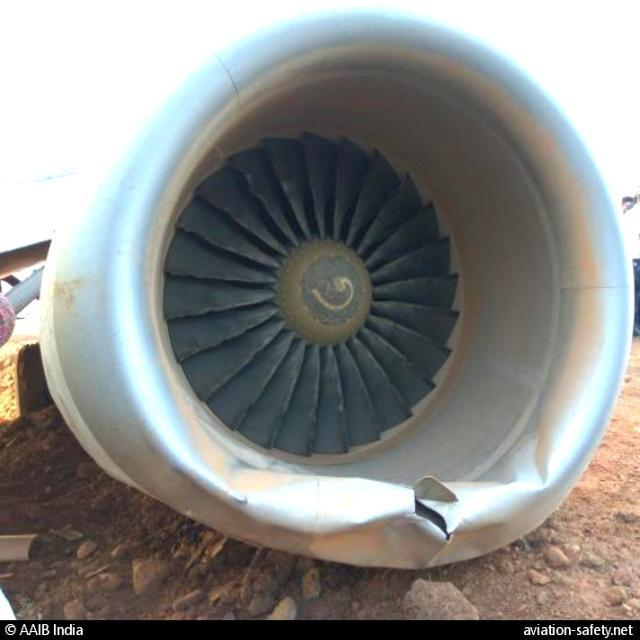crack: (413, 487, 455, 545)
dent: (247, 475, 414, 530), (510, 432, 553, 494)
